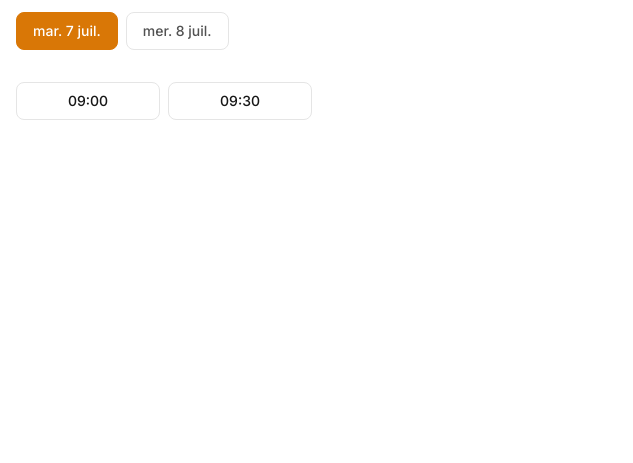
Test: BookingSection › créneau pris entre-temps (409) → message + rechargement des créneaux
Click the button "09:00": click(88, 101) [16,82,160,120]
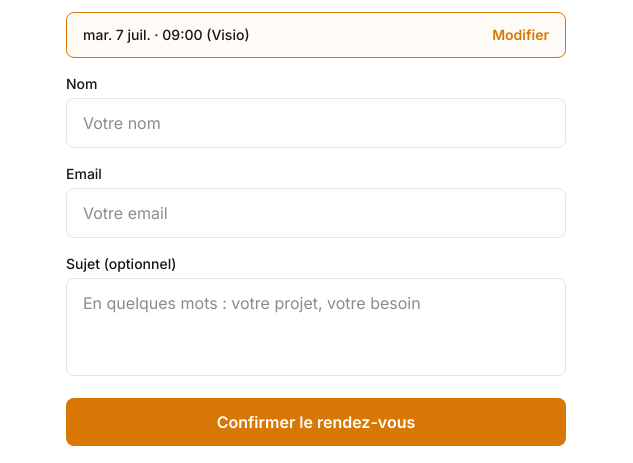
In the field labelled "Nom": (316, 123) [66,98,566,148], type "Jean Dupont"
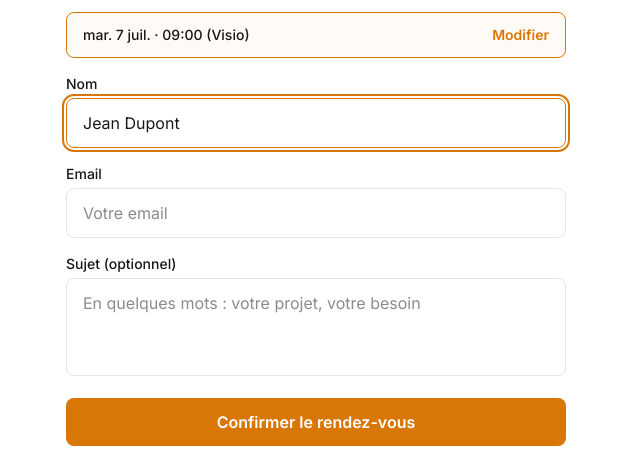
In the field labelled "Email": (316, 213) [66,188,566,238], type "jean@example.com"
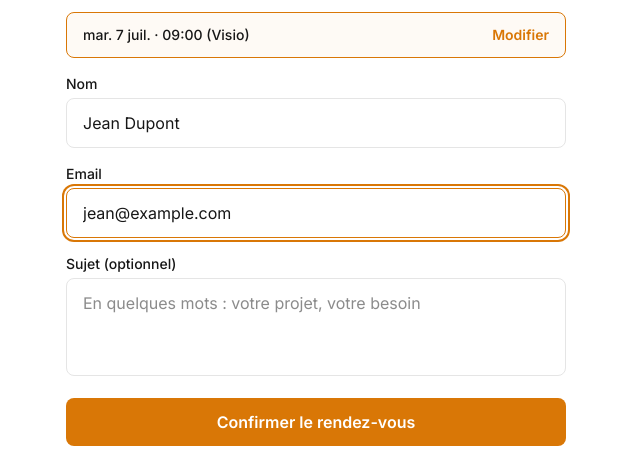
Click the button "Confirmer le rendez-vous": click(316, 422) [66,398,566,446]
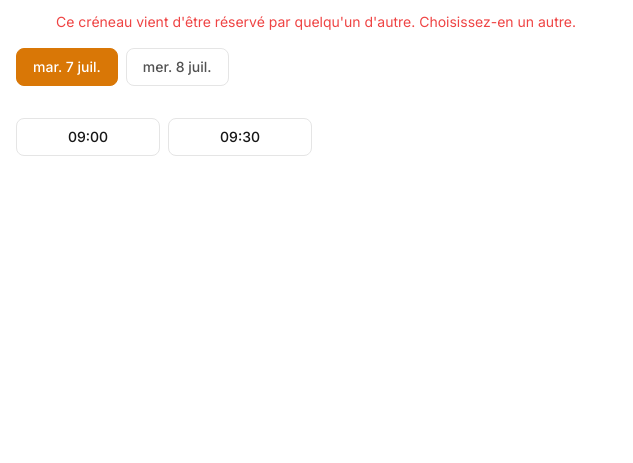
Check: the text "Ce créneau vient d'être réservé par quelqu'un d'autre. Choisissez-en un autre." is shown, box [16,12,616,32]
